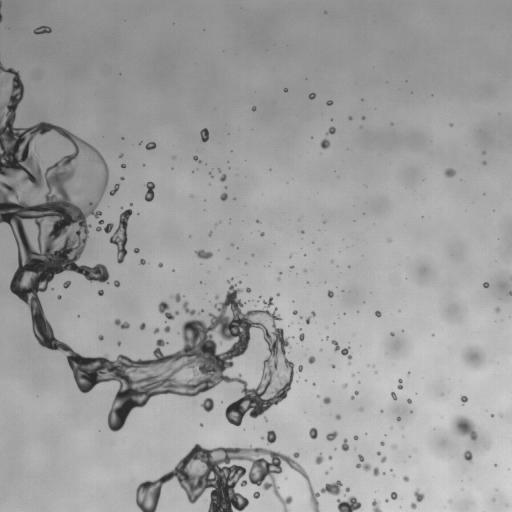droplet: (451, 415, 477, 440), (158, 301, 179, 319), (337, 496, 361, 511), (464, 348, 480, 366), (411, 489, 424, 509), (261, 430, 276, 444), (201, 397, 214, 412), (195, 249, 212, 259), (372, 499, 382, 511), (200, 128, 208, 142), (326, 431, 337, 441), (320, 138, 330, 148), (103, 223, 113, 233), (444, 168, 455, 177), (309, 427, 317, 439), (341, 439, 349, 451), (464, 450, 472, 461), (145, 141, 155, 149), (315, 454, 323, 464), (326, 126, 335, 134), (173, 293, 181, 302), (460, 395, 467, 404), (63, 280, 70, 288), (323, 397, 331, 404), (397, 379, 402, 389), (220, 193, 227, 200), (308, 356, 315, 363), (390, 492, 397, 499), (220, 174, 226, 181), (327, 290, 333, 297), (139, 322, 145, 329), (164, 325, 170, 332), (299, 333, 305, 340), (253, 491, 259, 498), (391, 392, 396, 400), (309, 93, 315, 99), (483, 282, 489, 288), (375, 311, 381, 317), (114, 280, 119, 287), (326, 100, 332, 105), (381, 456, 386, 462), (403, 476, 409, 481), (134, 248, 139, 253), (140, 259, 145, 264), (158, 262, 163, 267), (246, 287, 251, 292), (98, 290, 103, 295), (154, 328, 159, 333), (98, 335, 103, 340), (342, 383, 347, 388), (335, 414, 340, 419), (298, 365, 302, 371), (345, 487, 349, 492), (260, 232, 264, 236), (57, 295, 61, 299), (495, 307, 499, 311), (293, 310, 297, 314), (390, 332, 394, 336), (407, 399, 411, 403), (359, 407, 363, 411), (380, 441, 384, 445), (376, 451, 380, 455), (0, 80, 3, 85), (121, 164, 125, 167), (209, 231, 212, 235), (117, 341, 120, 345), (264, 417, 267, 421), (354, 435, 357, 439), (392, 445, 396, 448), (328, 456, 332, 459), (284, 88, 287, 91), (252, 107, 255, 110), (119, 154, 122, 157), (209, 173, 212, 176), (388, 239, 391, 242), (215, 295, 218, 298), (332, 364, 335, 367), (397, 417, 400, 420), (237, 281, 241, 283), (509, 291, 511, 295), (349, 117, 352, 119), (362, 116, 364, 119), (450, 123, 452, 126), (483, 161, 485, 164), (121, 177, 123, 180), (257, 220, 259, 223), (291, 265, 293, 268), (380, 410, 383, 412), (491, 414, 493, 417), (385, 499, 388, 501), (139, 142, 141, 144), (482, 151, 484, 153), (218, 169, 220, 171), (130, 203, 132, 205), (301, 231, 303, 233), (326, 337, 328, 339), (375, 371, 377, 373), (200, 424, 202, 426), (390, 469, 392, 471), (326, 471, 328, 473)
ligament: (0, 61, 294, 428), (136, 444, 341, 511), (109, 209, 132, 263), (356, 454, 379, 476), (331, 340, 351, 360), (182, 301, 203, 315), (145, 181, 154, 201), (114, 318, 129, 329), (33, 26, 51, 34), (109, 184, 119, 195), (306, 311, 315, 323), (350, 390, 358, 399), (193, 156, 200, 162), (0, 12, 2, 21), (0, 0, 1, 8)
